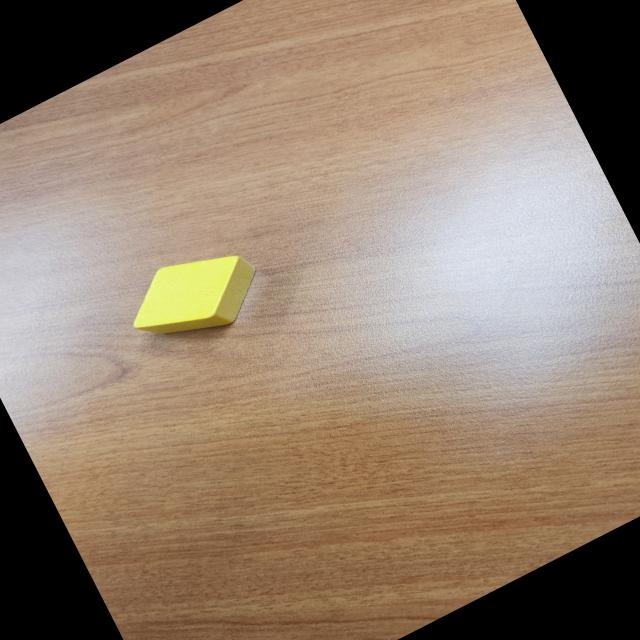yellow: (115, 228, 275, 364)
